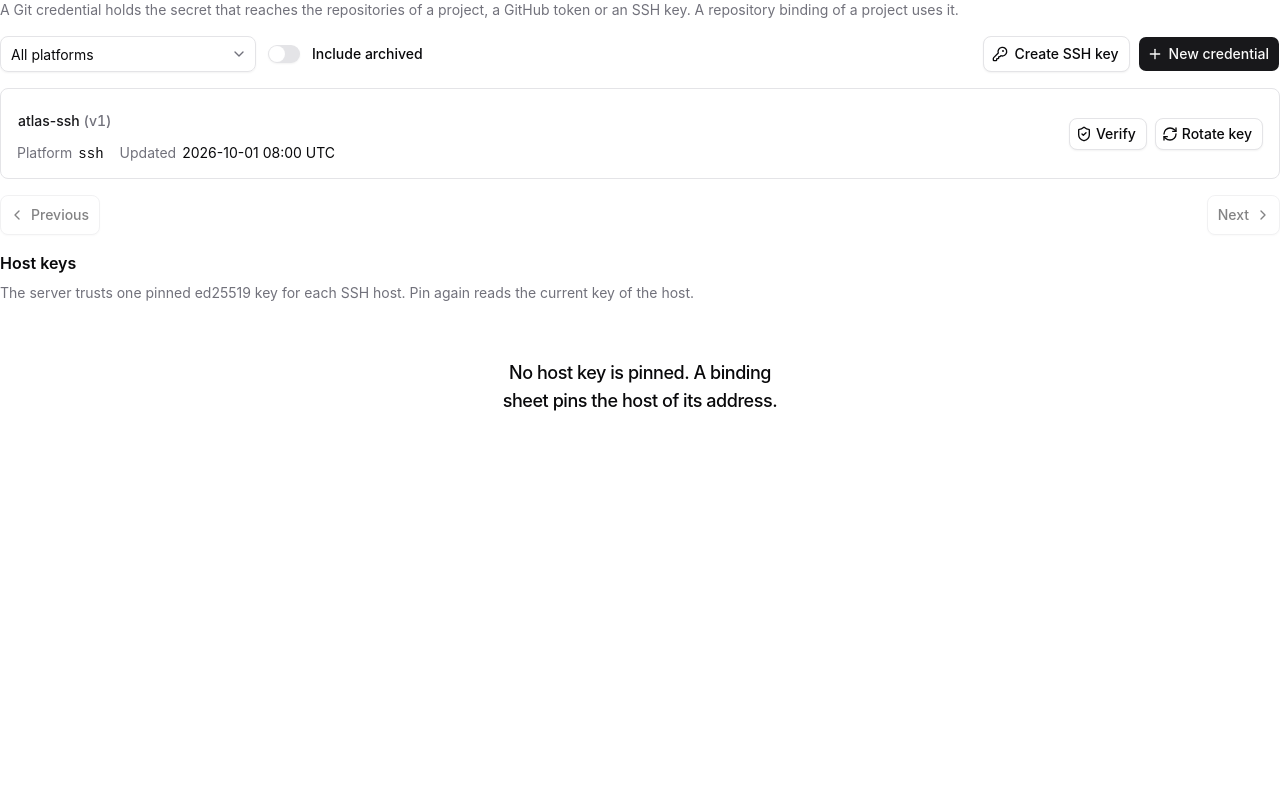
CredentialsScreen › offers Rotate key and no secret rotate or metadata edit on an ssh row
Click the button with aria-label "Rotate key of atlas-ssh" at (1209,134), box [1155, 118, 1263, 150]
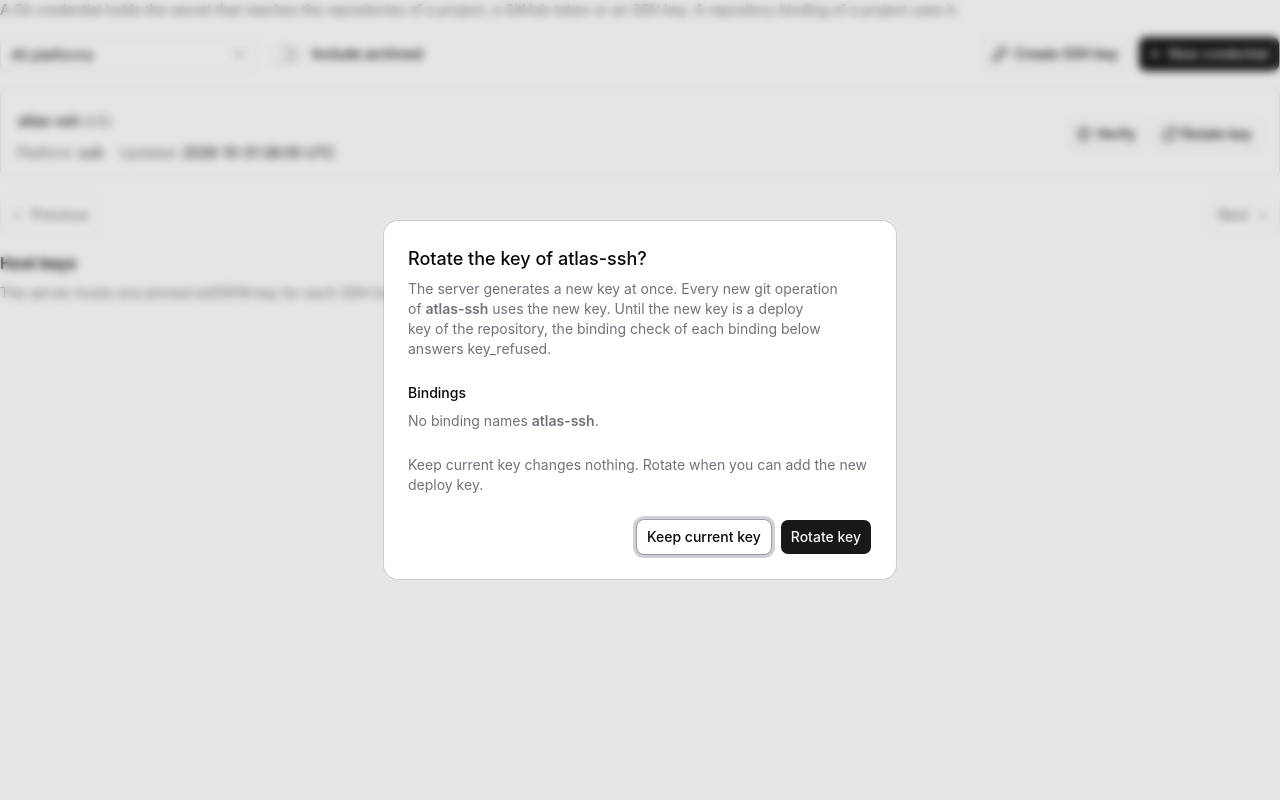
Expected: the dialog "Rotate the key of atlas-ssh?" is shown, [384, 221, 896, 579]
